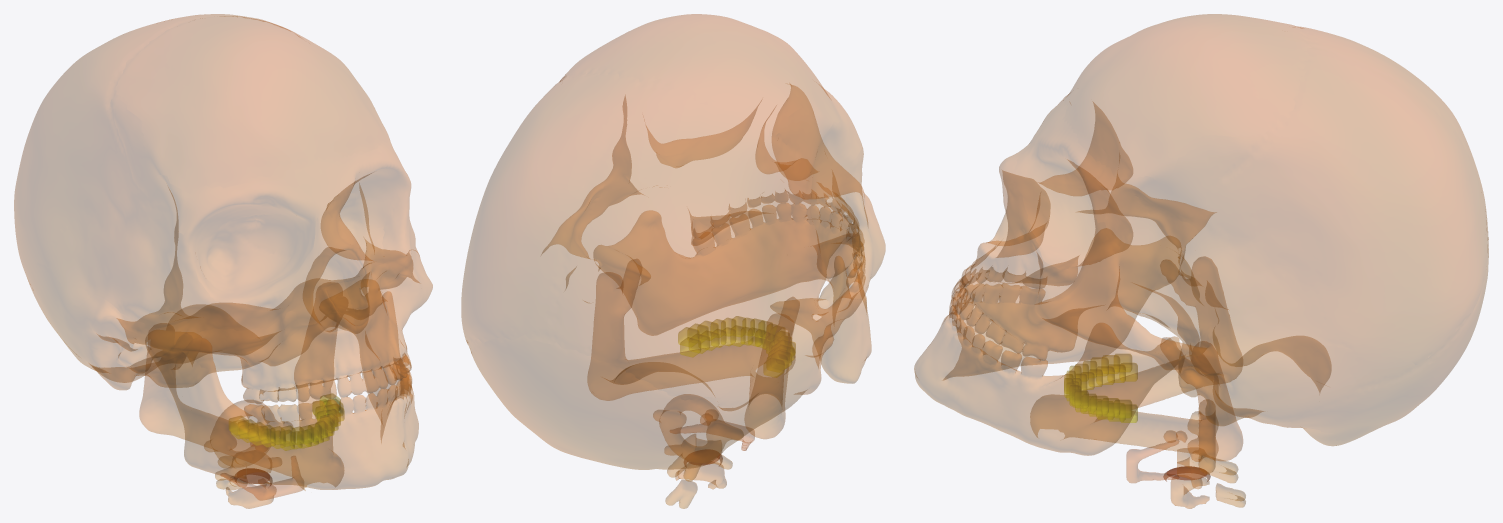
The model's file is skull-hero.glb.
3 views of the same model, side by side, from view 1: azimuth 30°, elevation 25°; view 2: azimuth 150°, elevation 25°; view 3: azimuth 270°, elevation 25° (orthographic). The views are drawn at different scales.
Parts seen in each view (by area): view 1: skull_cranium, mandible, C1_atlas, C3, hyoid, C2_axis; view 2: skull_cranium, mandible, C1_atlas, C3, C2_axis, hyoid; view 3: skull_cranium, mandible, C1_atlas, C2_axis, C3, hyoid.
Part boxes in pixels (x1,y1,x2,y2): skull_cranium: (14, 14, 432, 489); mandible: (139, 286, 346, 490); C1_atlas: (204, 400, 292, 466); C3: (216, 477, 276, 508); hyoid: (221, 456, 303, 500); C2_axis: (215, 445, 281, 480); skull_cranium: (461, 14, 885, 469); mandible: (588, 259, 796, 438); C1_atlas: (653, 394, 743, 462); C3: (665, 462, 726, 508); C2_axis: (665, 416, 732, 481); hyoid: (675, 422, 754, 450); skull_cranium: (914, 14, 1488, 455); mandible: (1030, 257, 1242, 460); C1_atlas: (1164, 400, 1218, 473); C2_axis: (1176, 431, 1238, 488); C3: (1171, 477, 1245, 508); hyoid: (1126, 440, 1179, 482).
Size of the model in its own units: 0.1797 by 0.2736 by 0.2987.
